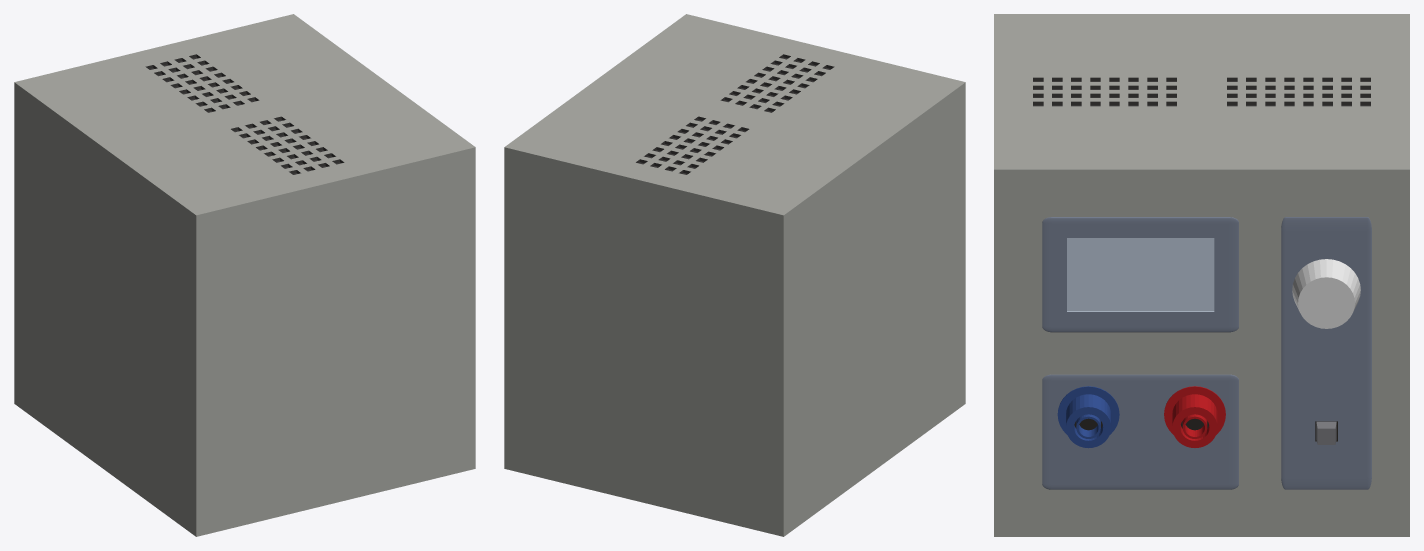
File: amperageGenerator.glb
The picture shows the model from 3 angles, left to right: view 1: azimuth 30°, elevation 25°; view 2: azimuth 150°, elevation 25°; view 3: azimuth 270°, elevation 25°; orthographic projection. The views are drawn at different scales.
Parts seen in each view (by area): view 1: generator; view 2: generator; view 3: generator, Cylinder, power.
Part boxes in pixels (x1,y1,x2,y2): generator: (14, 14, 475, 536); generator: (504, 14, 965, 536); generator: (994, 14, 1409, 536); Cylinder: (1292, 259, 1360, 328); power: (1316, 421, 1336, 444).
Bounding box in the file's own units: 221 × 223 × 229.
